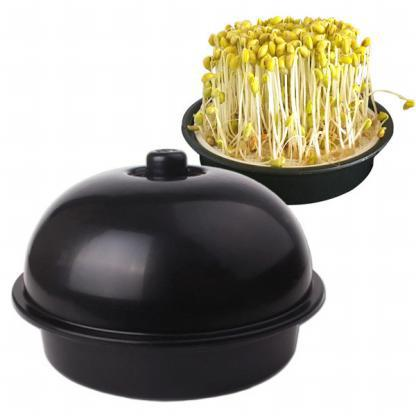bean sprouts: (191, 26, 380, 146)
